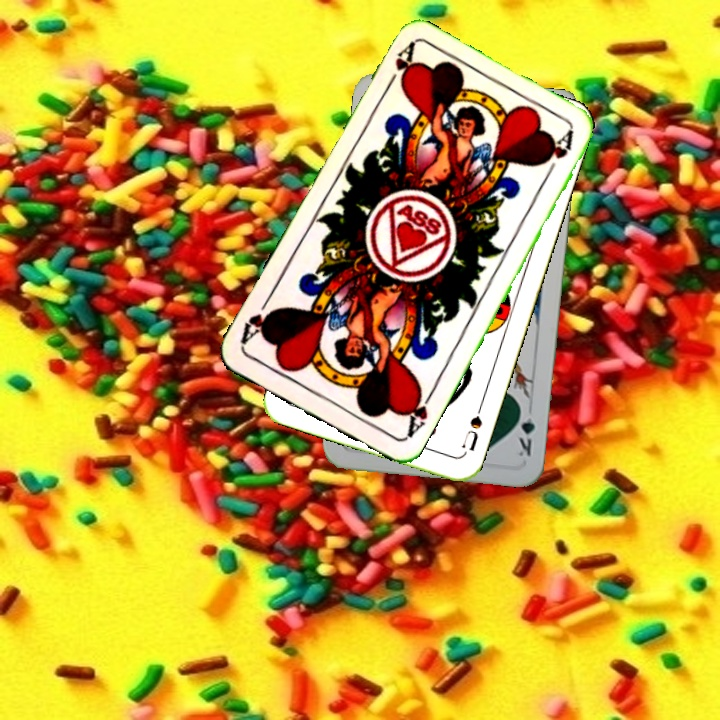GK: (512, 402, 538, 459)
HA: (401, 384, 437, 441), (380, 40, 417, 95)
SU: (457, 400, 486, 457)
